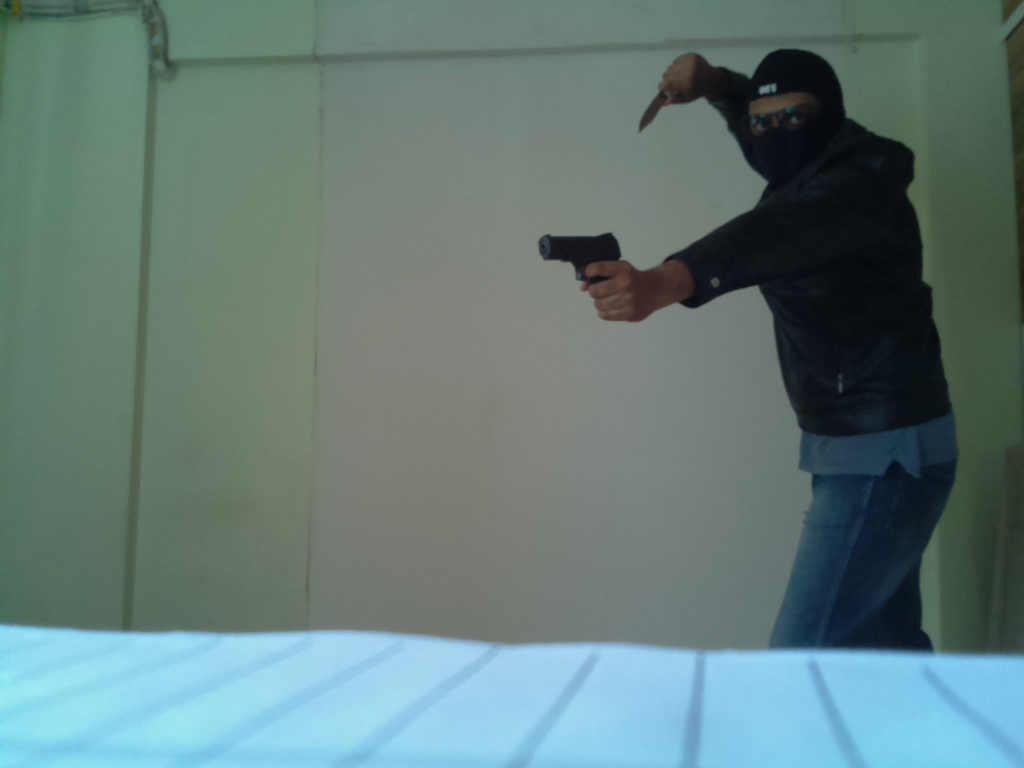gun: (536, 222, 627, 318)
knife: (633, 71, 697, 135)
